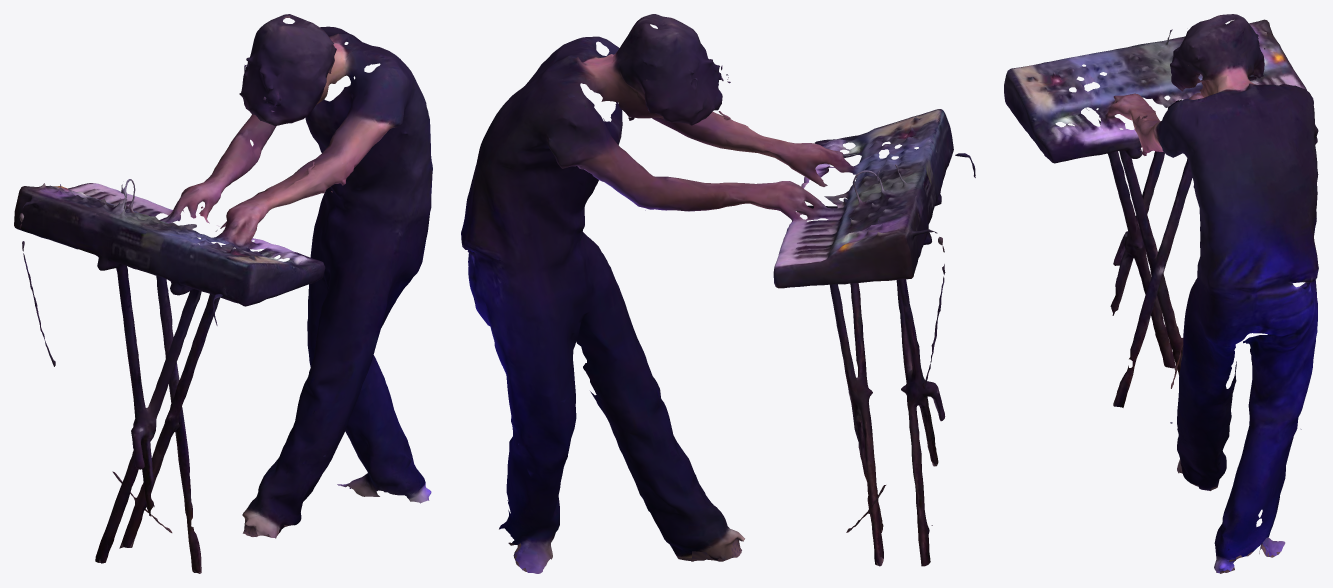
File: marti_low_poly.glb
3 renders of one model, left to right at view 1: azimuth 30°, elevation 25°; view 2: azimuth 150°, elevation 25°; view 3: azimuth 270°, elevation 25°, orthographic. The views are drawn at different scales.
Size of the model in its own units: 2.63 by 3.08 by 1.78.
7 materials, 7 textured.
